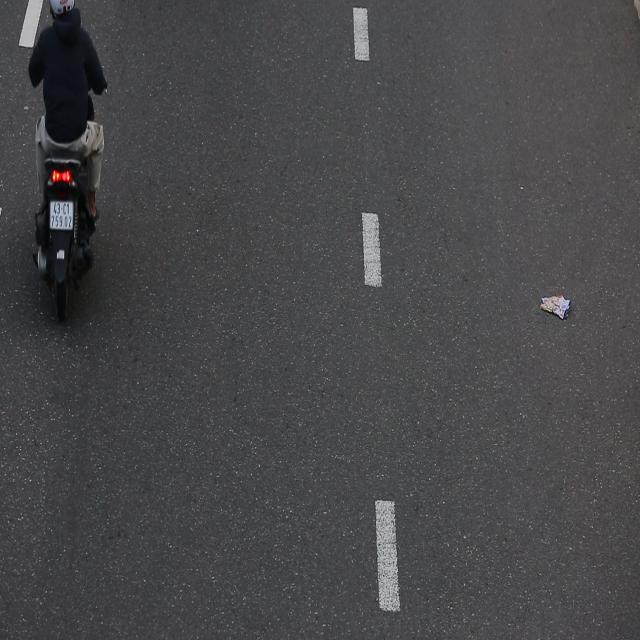motorbike: (23, 0, 115, 314)
